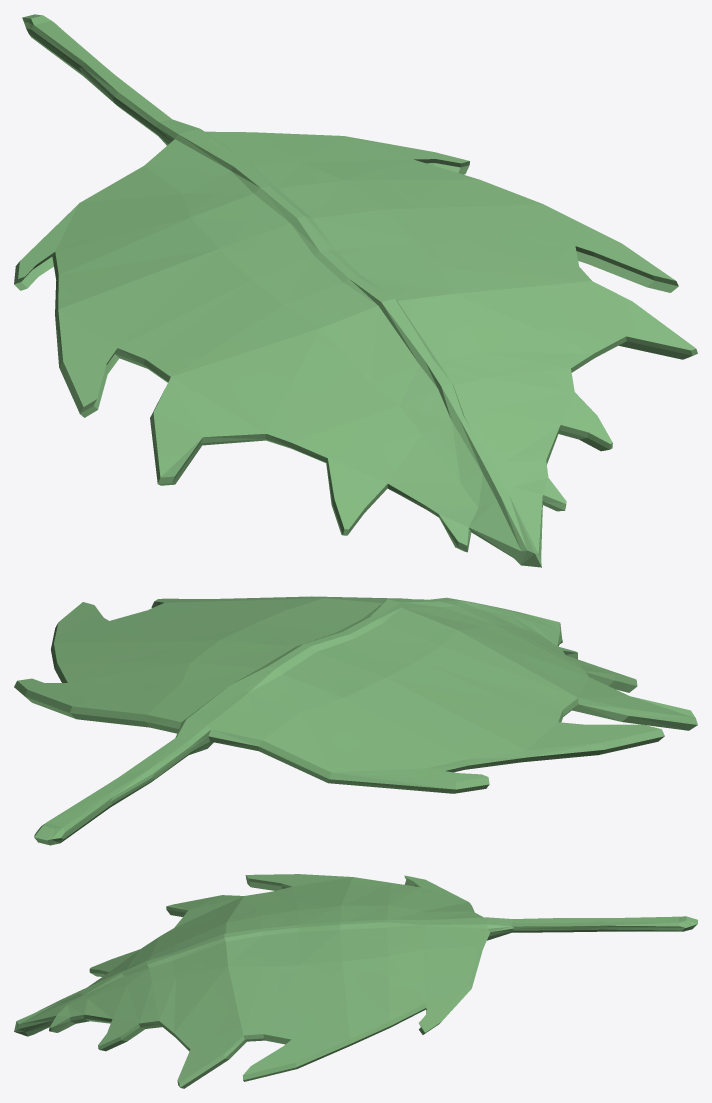
The model's file is leaf_1.obj.
3 views of the same model, one above another, from view 1: azimuth 30°, elevation 25°; view 2: azimuth 150°, elevation 25°; view 3: azimuth 270°, elevation 25° (orthographic). The views are drawn at different scales.
Parts seen in each view (by area): view 1: leaf_1_Material; view 2: leaf_1_Material; view 3: leaf_1_Material.
Boxes of the visible parts, x1=… form: leaf_1_Material: x1=14, y1=14, x2=697, y2=567; leaf_1_Material: x1=14, y1=596, x2=697, y2=845; leaf_1_Material: x1=14, y1=874, x2=697, y2=1088.
Size of the model in its own units: 0.3683 by 0.1073 by 0.5552.
